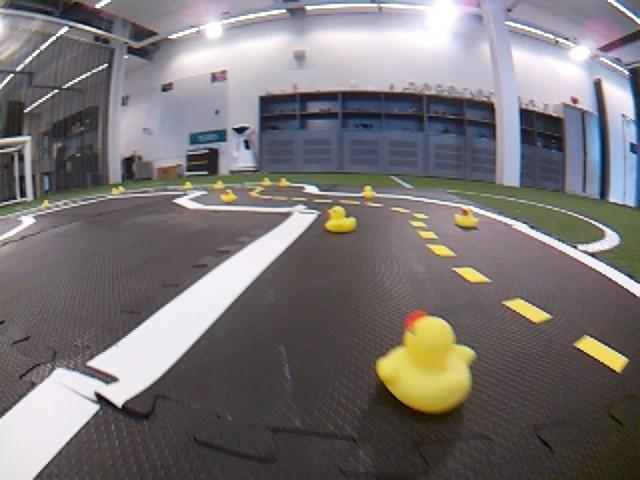Duckies: (375, 313, 475, 417), (324, 206, 357, 233), (453, 207, 479, 229), (219, 189, 237, 203), (361, 186, 377, 200), (279, 178, 290, 187), (261, 177, 272, 186), (213, 181, 225, 189), (184, 182, 193, 189), (42, 200, 51, 207), (117, 186, 126, 192), (111, 189, 119, 194)
